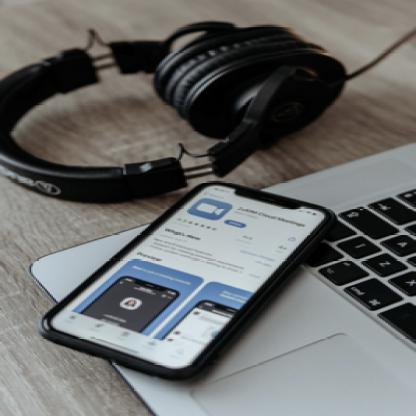cell-phone: (48, 172, 335, 382)
